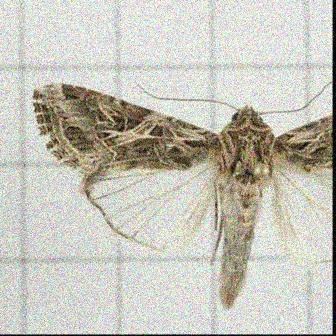Spodoptera litura: (31, 81, 332, 310)
